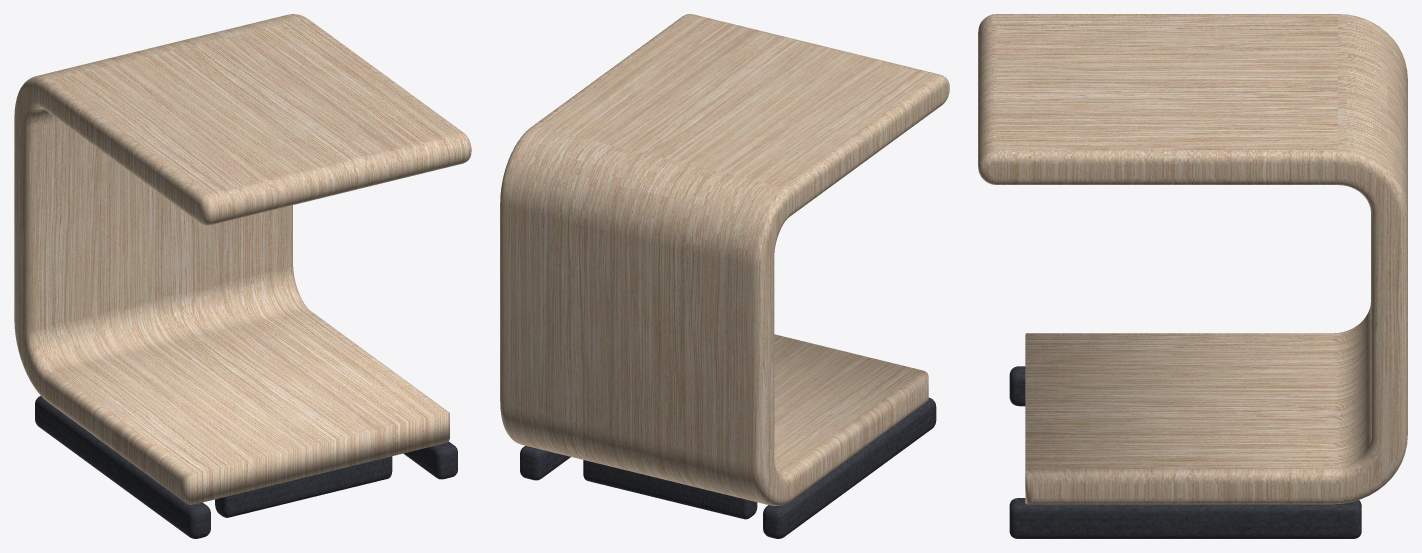
Rendered from small_cabinet_middle_light.glb.
3 renders of one model, left to right at view 1: azimuth 30°, elevation 25°; view 2: azimuth 150°, elevation 25°; view 3: azimuth 270°, elevation 25°, orthographic. The views are drawn at different scales.
Parts seen in each view (by area): view 1: small_cabinet_middle_light; view 2: small_cabinet_middle_light; view 3: small_cabinet_middle_light.
Boxes of the visible parts, box(x1,y1,x2,y2) form: small_cabinet_middle_light: box(14, 14, 471, 538); small_cabinet_middle_light: box(500, 14, 949, 538); small_cabinet_middle_light: box(978, 14, 1407, 538).
Size of the model in its own units: 12.64 by 15.82 by 15.94.
2 materials, 2 textured.
